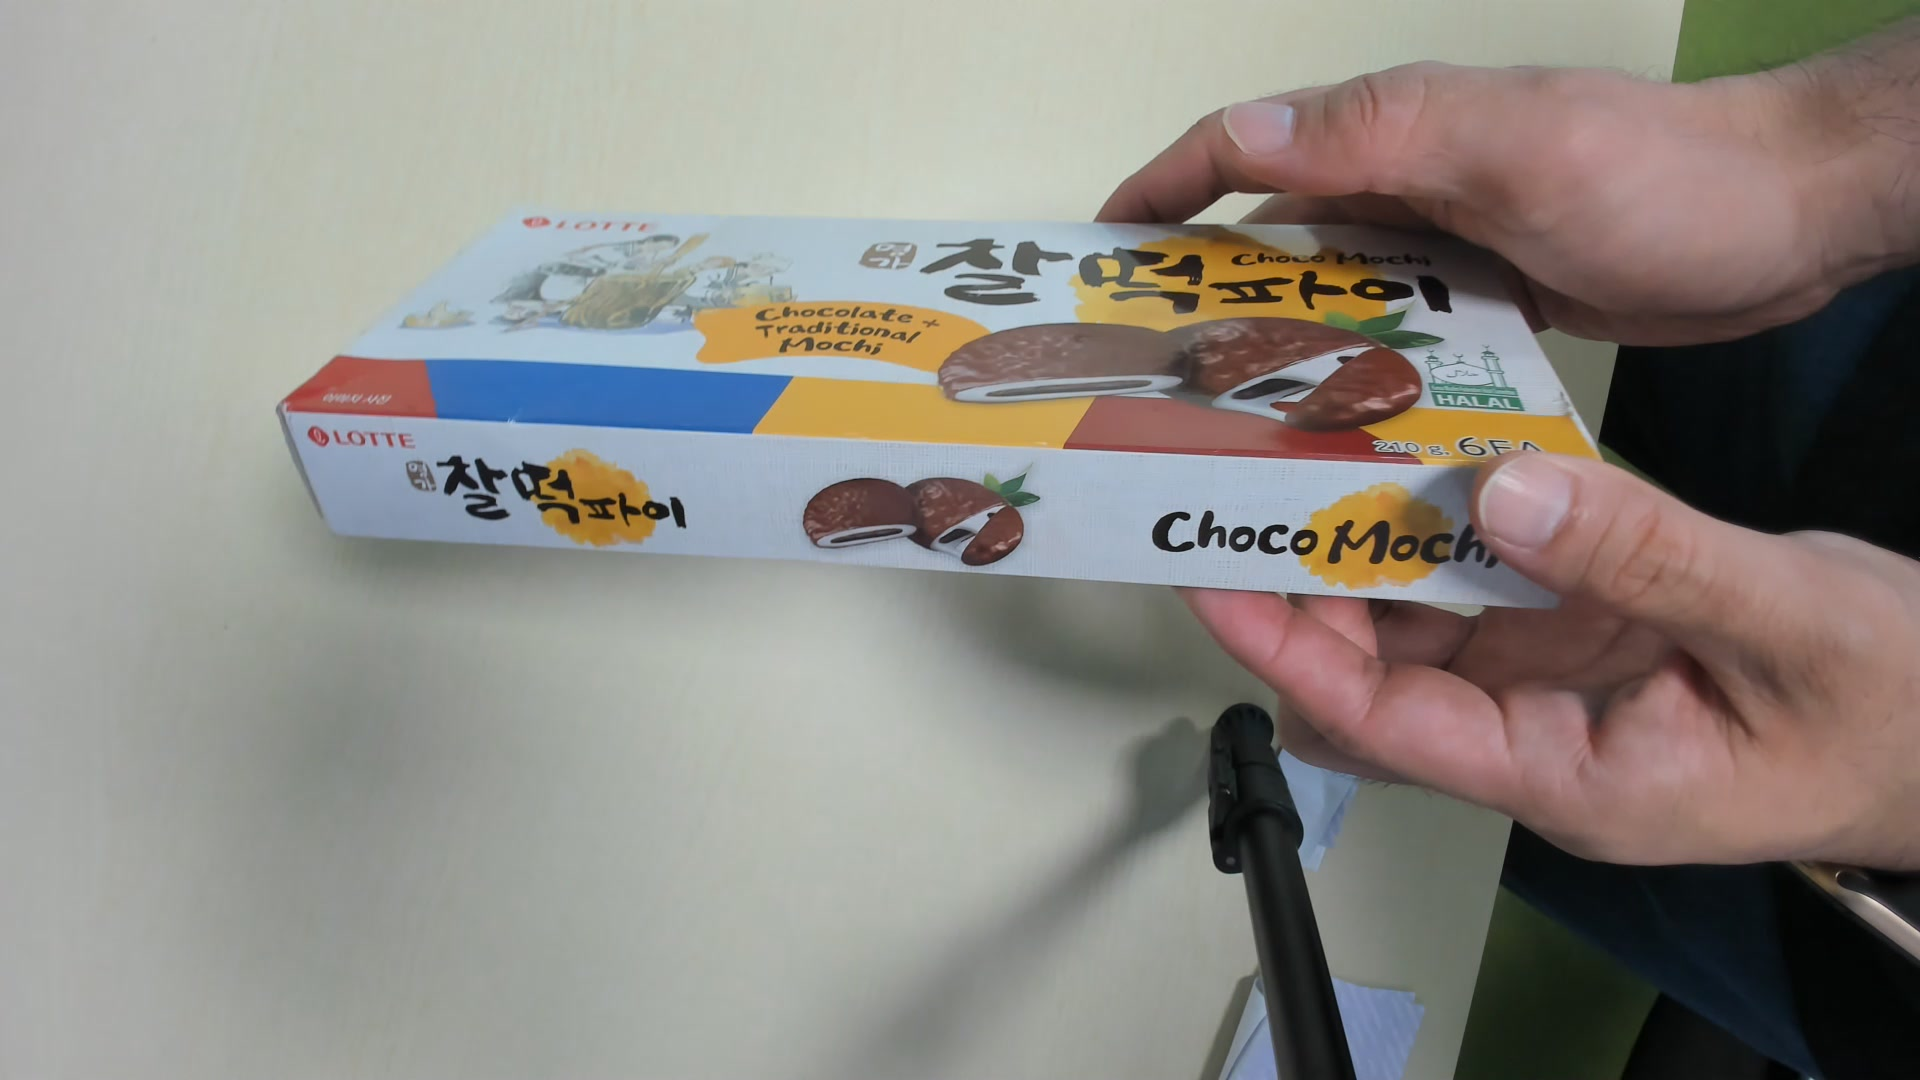SweetsChocolatesOthers_200-299g_NonHalal_Nonhealthy: (282, 204, 1592, 615)
